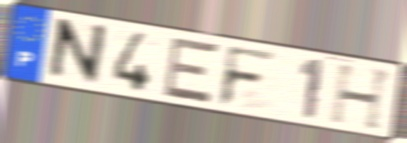1: (296, 57, 326, 123)
4: (110, 30, 154, 95)
E: (160, 35, 223, 106)
F: (216, 43, 280, 110)
H: (327, 62, 397, 133)
N: (43, 16, 110, 88)
